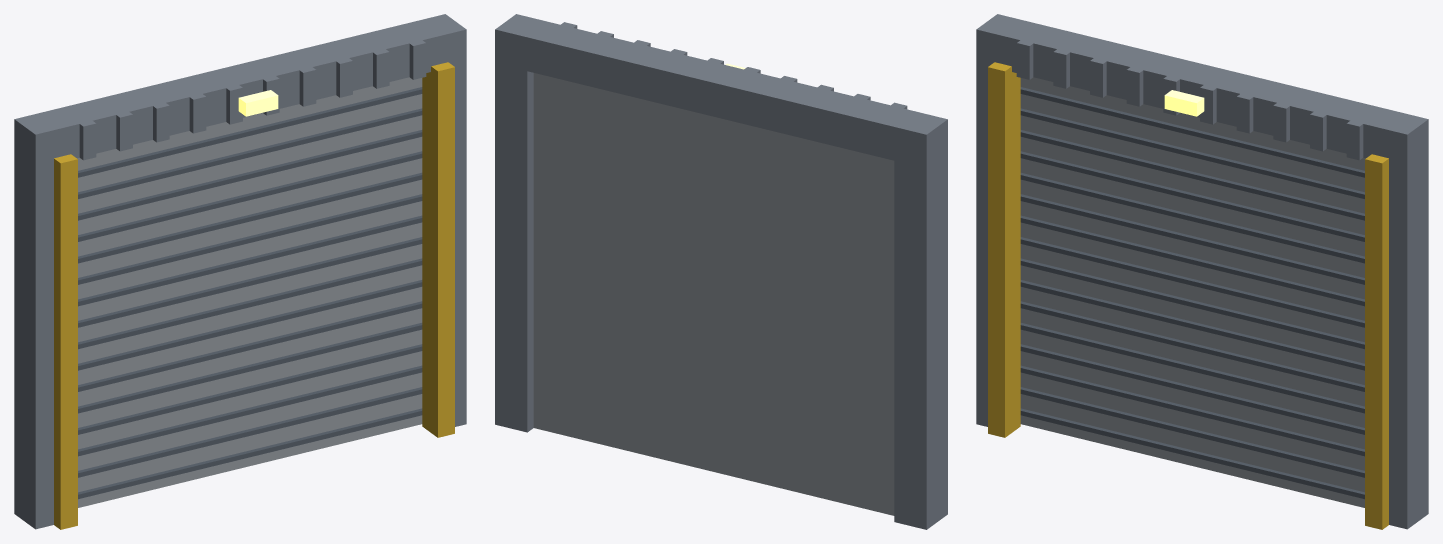
The model's file is cw_door.glb.
The picture shows the model from 3 angles, left to right: view 1: azimuth 30°, elevation 25°; view 2: azimuth 150°, elevation 25°; view 3: azimuth 330°, elevation 25°; orthographic projection.
Visible parts, largest first — view 1: city_cw_door; view 2: city_cw_door; view 3: city_cw_door.
Boxes of the visible parts, box(x1,y1,x2,y2) form: city_cw_door: box(14, 14, 466, 529); city_cw_door: box(495, 14, 947, 529); city_cw_door: box(976, 14, 1428, 529).
Size of the model in its own units: 4 by 3.5 by 0.52.
Materials: 2 (2 with a texture image).
